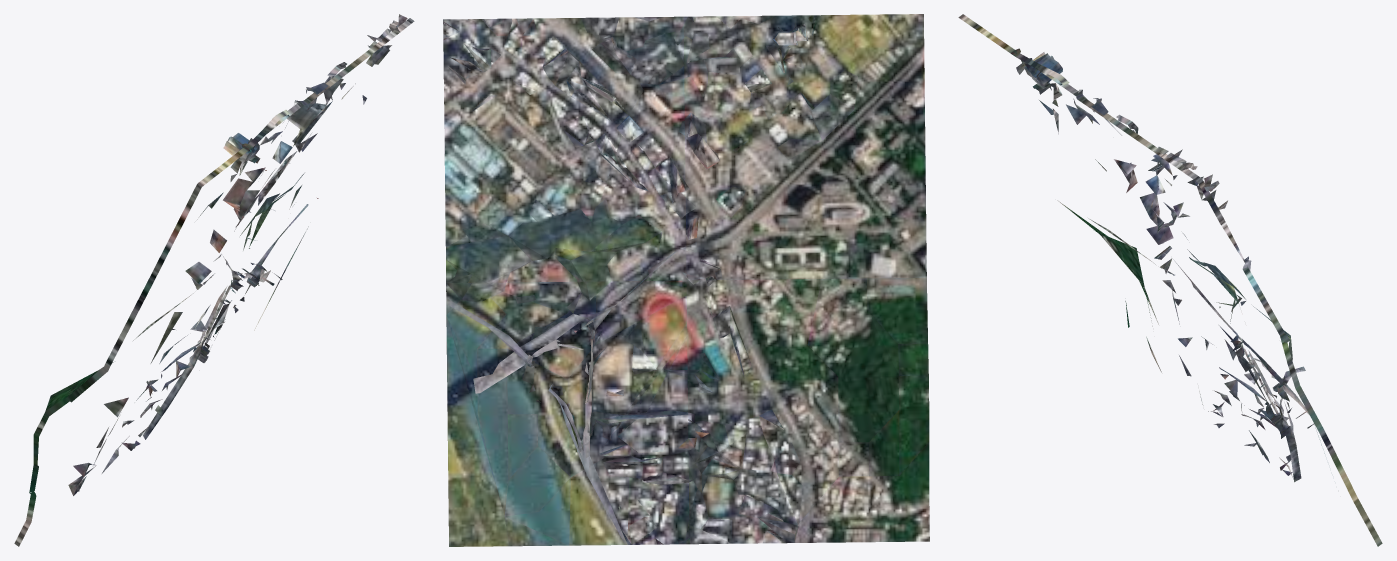
3 renders of one model, left to right at view 1: azimuth 30°, elevation 25°; view 2: azimuth 150°, elevation 25°; view 3: azimuth 270°, elevation 25°, orthographic. The views are drawn at different scales.
Size of the model in its own units: 1223 by 1124 by 1031.
1 material, 1 textured.
